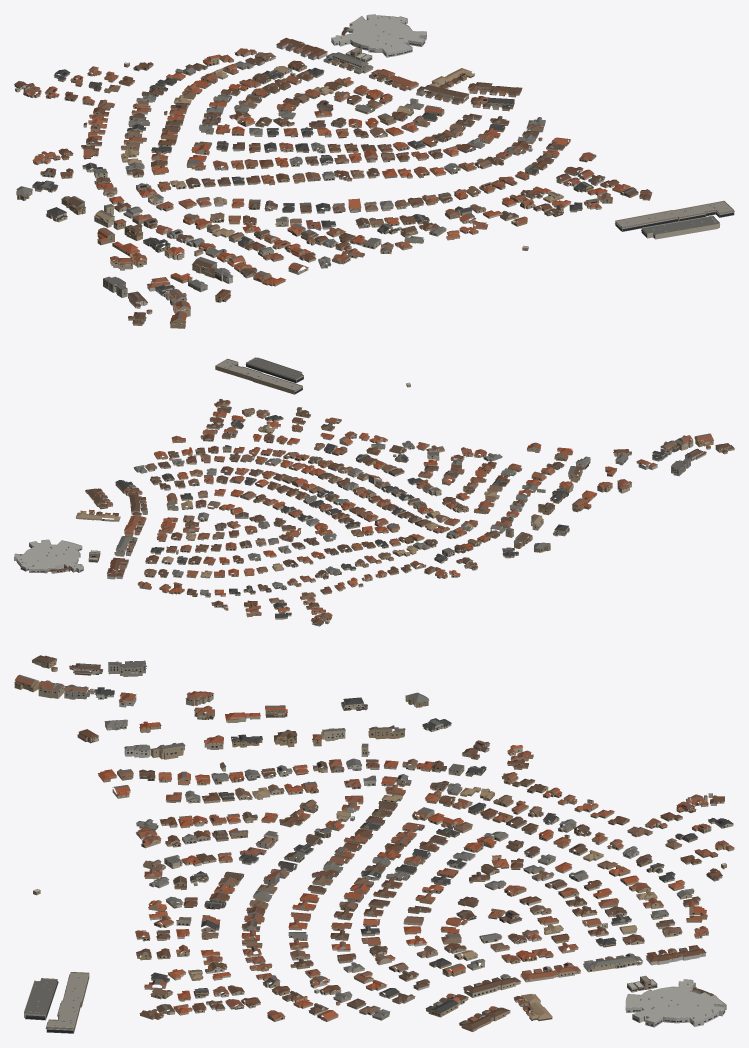
3 renders of one model, top to bottom at view 1: azimuth 30°, elevation 25°; view 2: azimuth 150°, elevation 25°; view 3: azimuth 270°, elevation 25°, orthographic. The views are drawn at different scales.
Parts seen in each view (by area): view 1: buildings_r2_c6_lod0; view 2: buildings_r2_c6_lod0; view 3: buildings_r2_c6_lod0.
Boxes of the visible parts, <box> form: buildings_r2_c6_lod0: <box>14,14,734,328</box>; buildings_r2_c6_lod0: <box>14,357,734,626</box>; buildings_r2_c6_lod0: <box>14,655,734,1033</box>.
Size of the model in its own units: 879 by 83.01 by 810.
